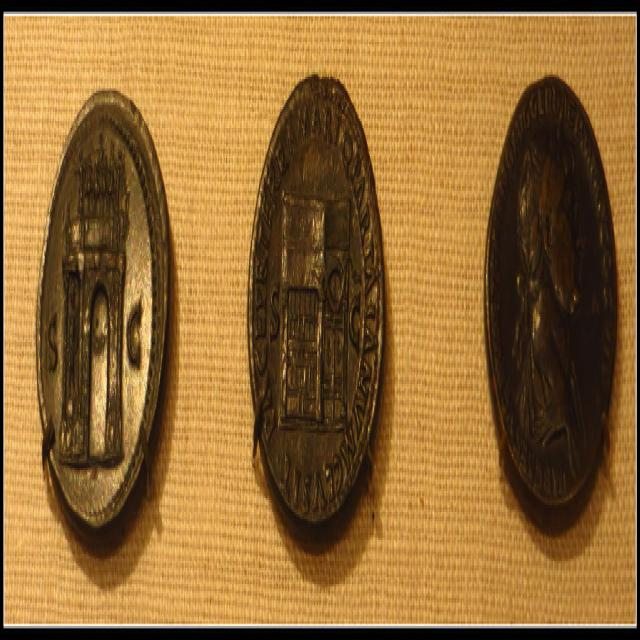Coin: (247, 60, 386, 543), (34, 78, 174, 549), (483, 72, 618, 540)
